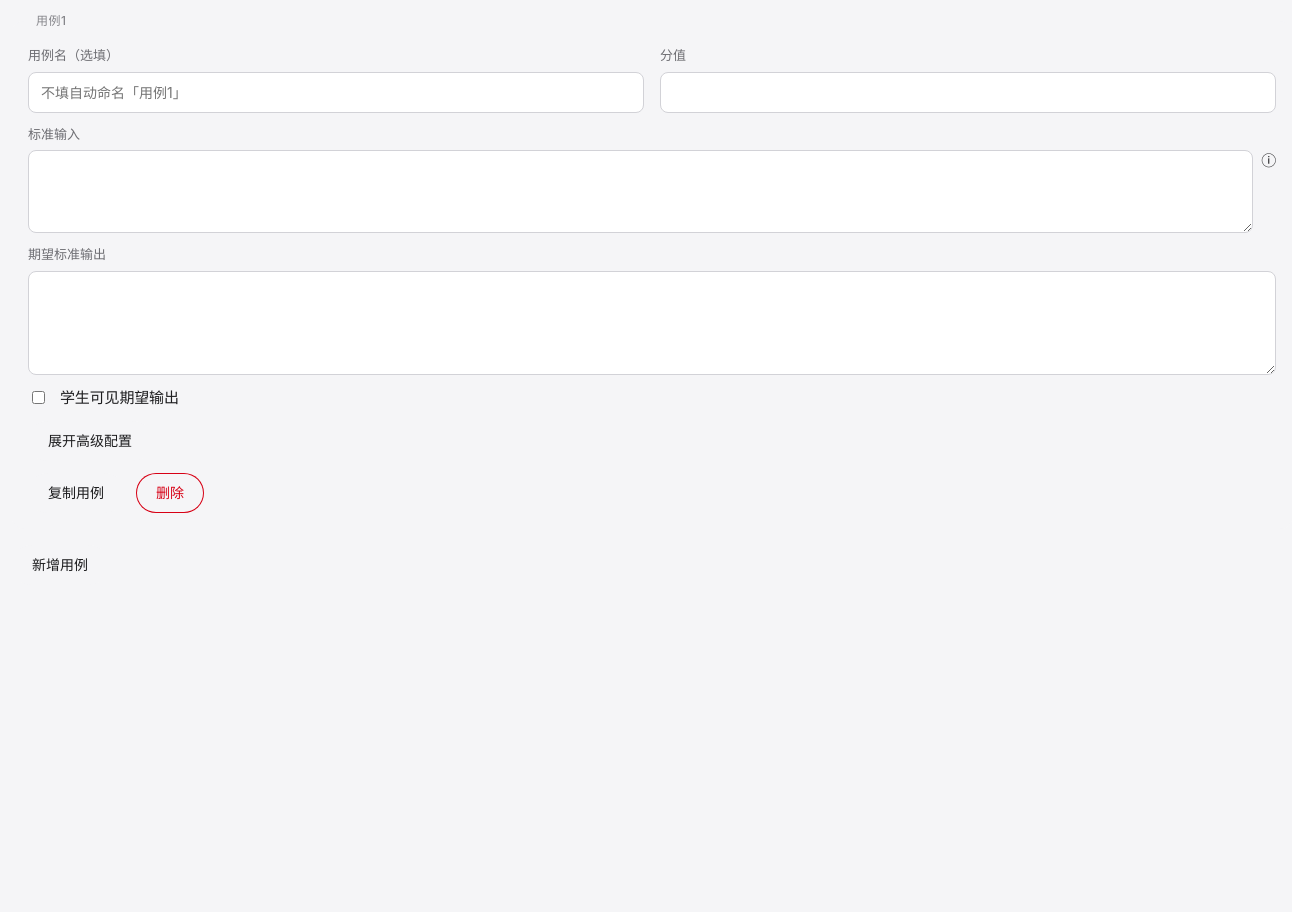
Test case: 分值与退出码 › 期望退出码预置为 0，收在高级配置里
The image size is (1292, 912).
Expected: the field labelled "期望退出码" is not shown
Click the button with test id "case-advanced-0".
click(90, 441)  # box [28,421,152,461]
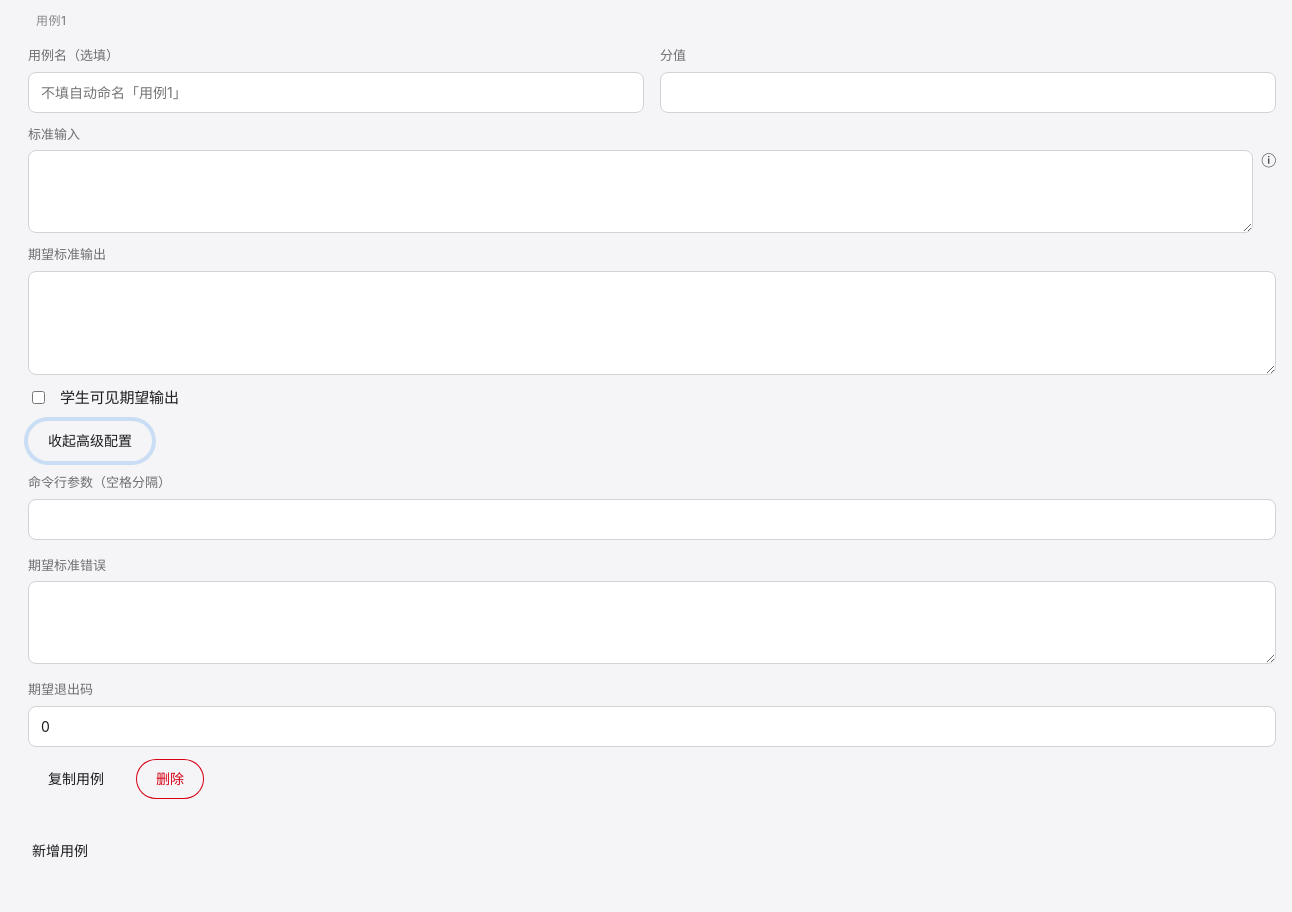
Now the field labelled "期望退出码" holds "0", box [28,706,1276,746]
